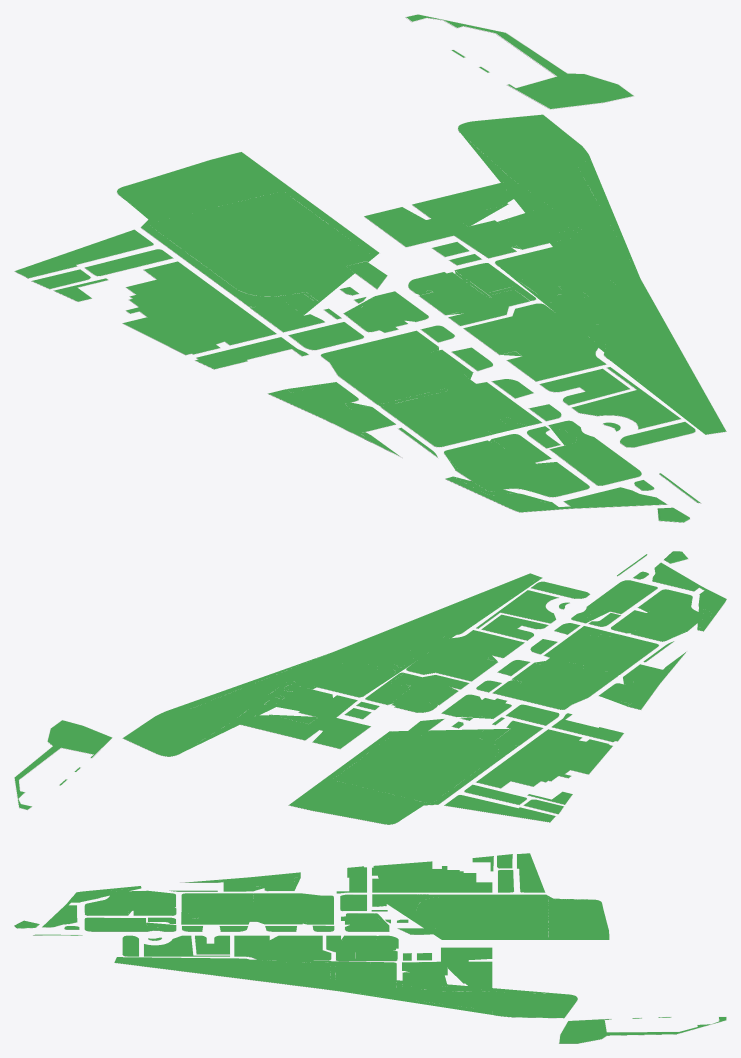
The model's file is Grass.fbx.
3 renders of one model, top to bottom at view 1: azimuth 30°, elevation 25°; view 2: azimuth 150°, elevation 25°; view 3: azimuth 270°, elevation 25°, orthographic. The views are drawn at different scales.
Visible parts, largest first — view 1: Grass; view 2: Grass; view 3: Grass.
Boxes of the visible parts, <box> form: Grass: <box>14,14,726,522</box>; Grass: <box>14,551,726,824</box>; Grass: <box>14,853,726,1043</box>.
Bounding box in the file's own units: 356 × 0.4096 × 562.
